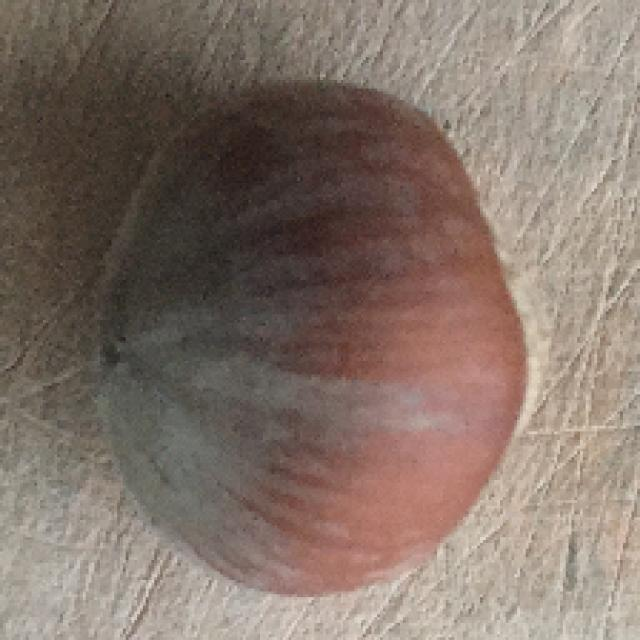QualityHazelnut: (90, 77, 545, 597)
